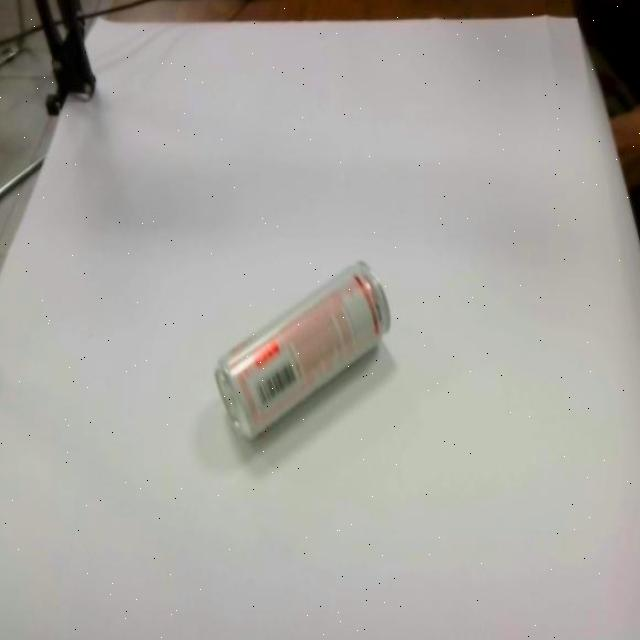debris: (213, 258, 393, 443)
